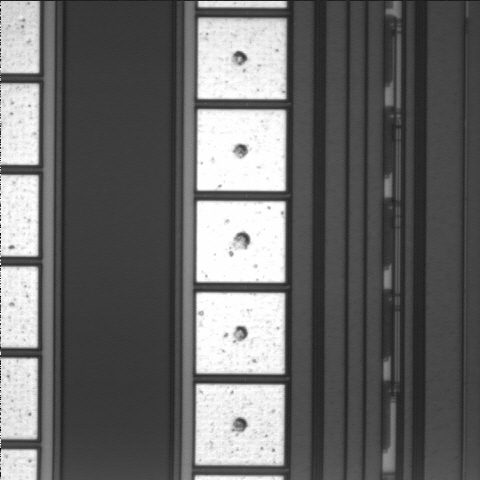pad: (197, 109, 286, 191), (196, 201, 285, 283), (196, 293, 285, 374), (195, 384, 284, 465), (198, 18, 286, 99)
